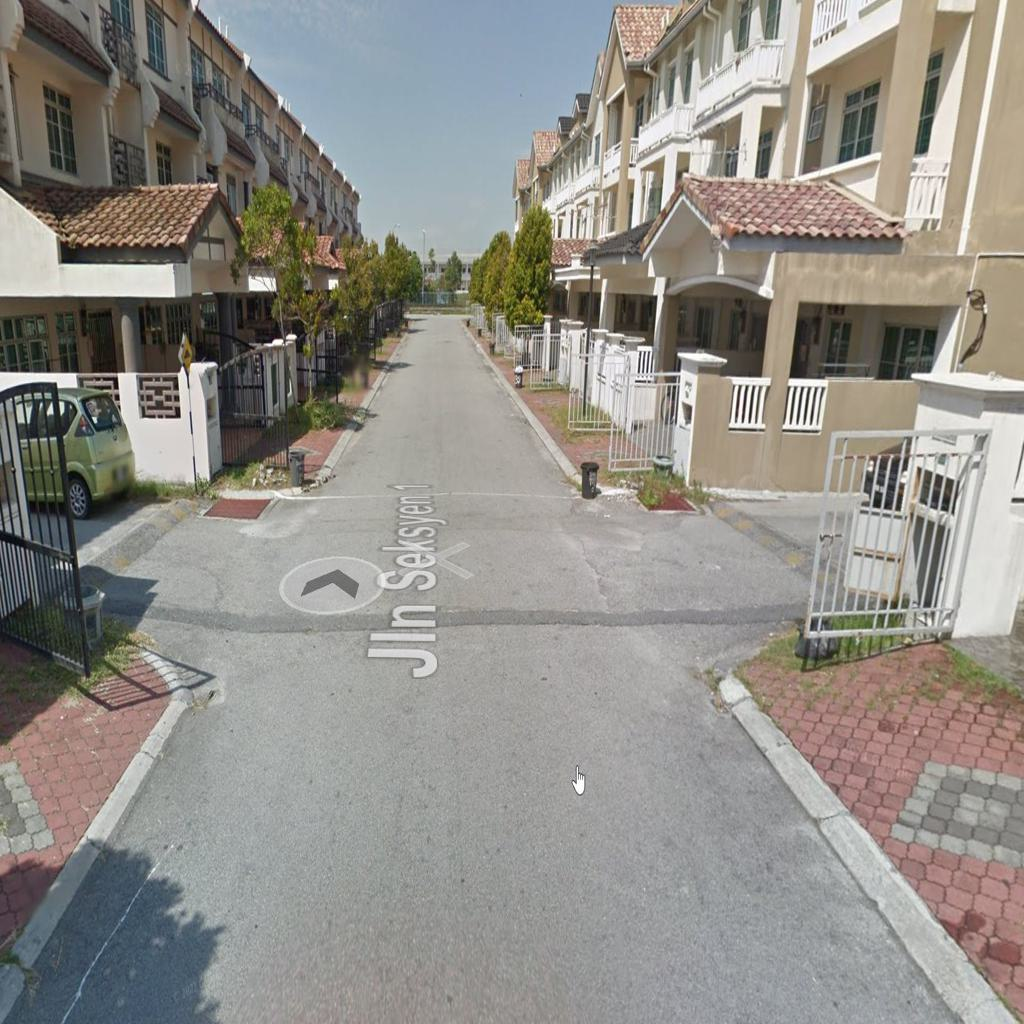Junction: (591, 428, 903, 704), (40, 460, 372, 685)
